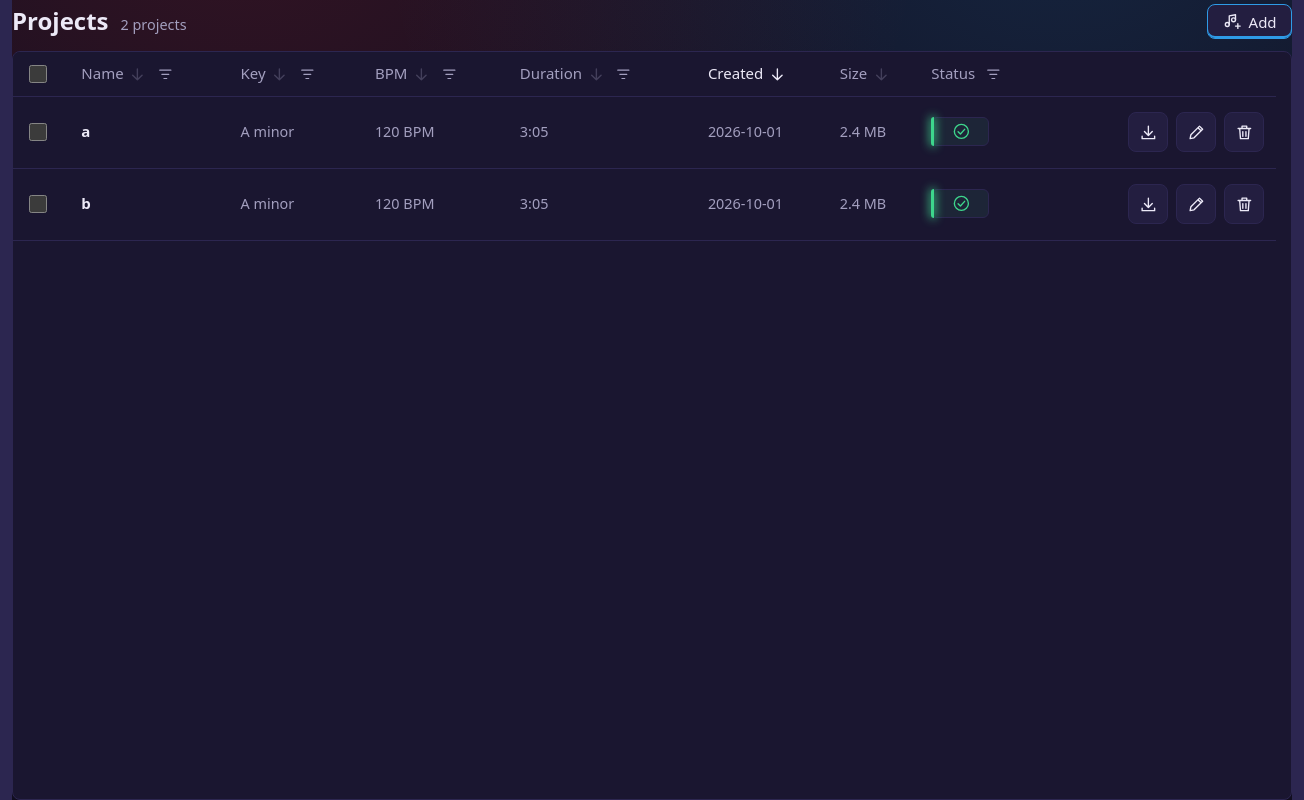
Test: Projects table › select-all picks every loaded row
Expected: the link "a" is shown, 81,121 -> 90,141
What coordinates should you click on to do the following:
click the checkbox named "Select all loaded"
I would click on:
 (38, 74)
Its box is 29,65 -> 47,83.
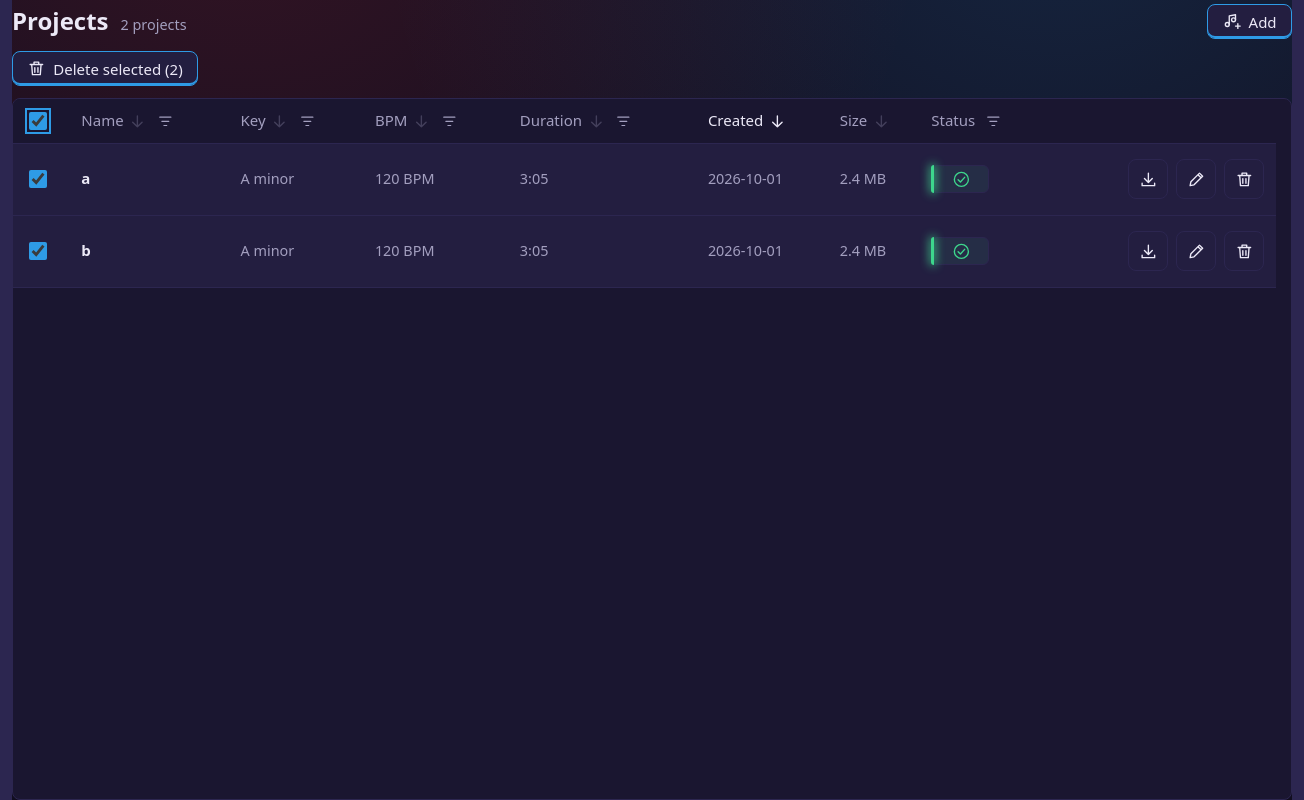
Expected: the button "Delete selected (2)" is shown, 12,51 -> 198,86
What coordinates should you click on to do the following:
click the checkbox named "Select all loaded"
I would click on:
 (38, 121)
Its box is 29,112 -> 47,130.
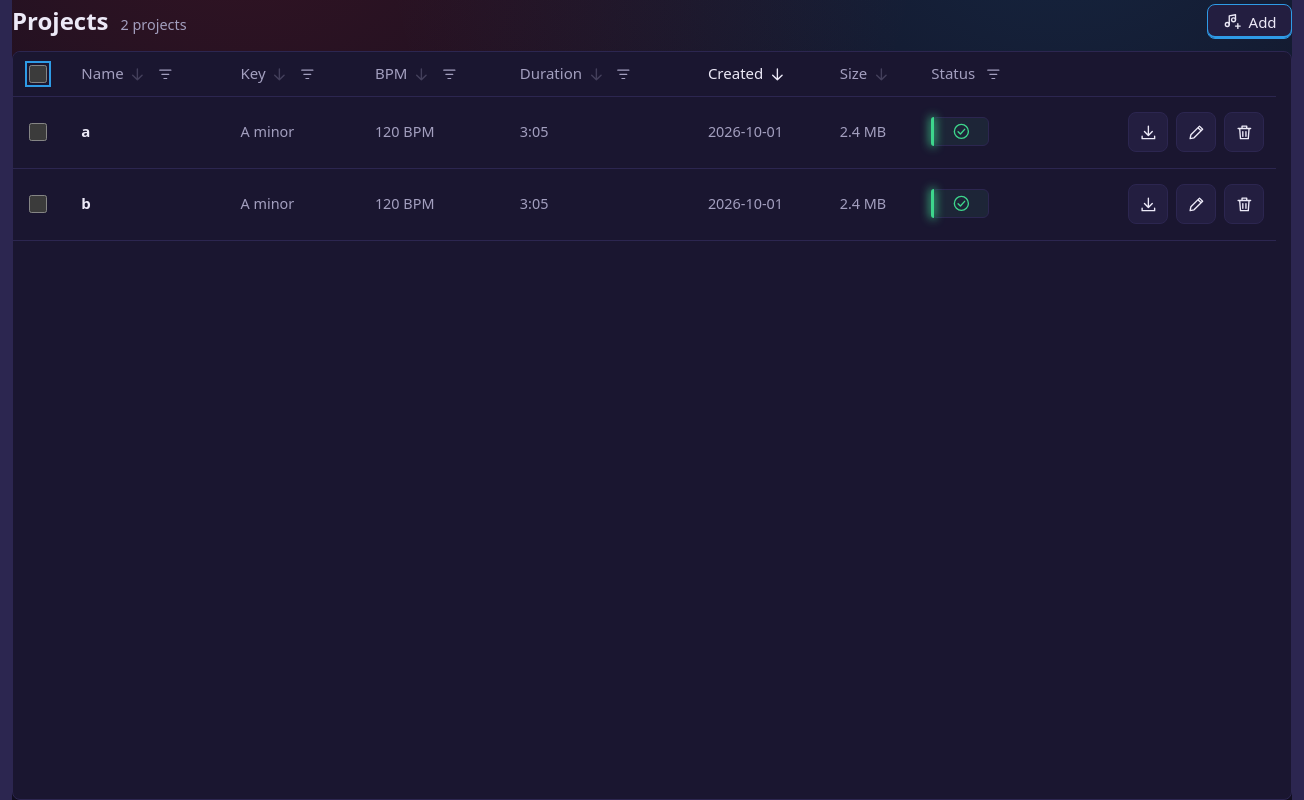
Expected: the button "Delete selected" is gone
